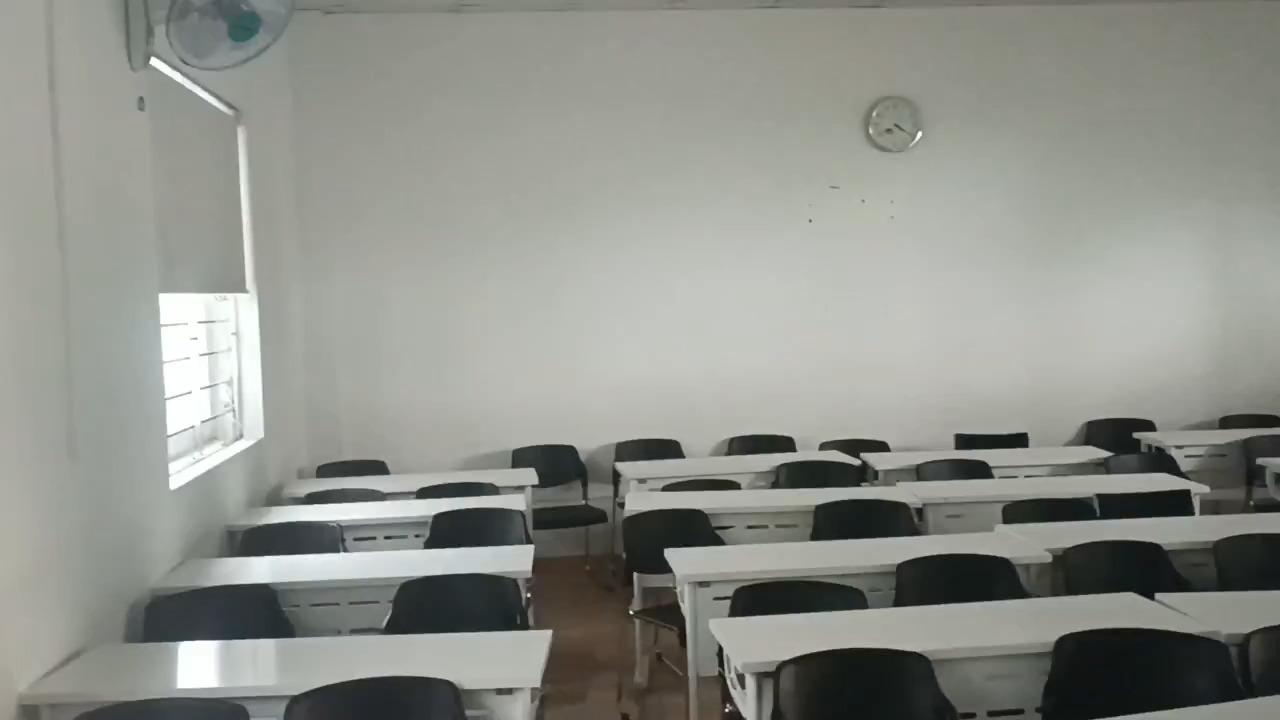chair: (1043, 629, 1240, 719), (777, 647, 958, 719), (516, 446, 602, 568), (382, 573, 525, 634), (891, 552, 1037, 609), (145, 585, 297, 639), (1066, 537, 1199, 596), (285, 679, 470, 717), (615, 510, 728, 567), (729, 580, 867, 617), (808, 495, 922, 537), (422, 506, 519, 547), (1218, 528, 1279, 591), (243, 521, 347, 555), (1097, 489, 1197, 521), (74, 701, 247, 719), (1084, 416, 1156, 453), (1001, 498, 1102, 520), (775, 459, 857, 486), (1106, 451, 1191, 477), (611, 435, 688, 463), (1248, 627, 1279, 694), (919, 457, 994, 480), (306, 458, 388, 475), (723, 435, 796, 453), (817, 437, 890, 455), (956, 430, 1028, 448), (304, 487, 388, 501), (417, 481, 501, 495), (1235, 437, 1279, 463), (666, 474, 741, 489), (1221, 413, 1279, 425)
clock: (863, 98, 925, 154)
fan: (122, 0, 294, 84)
table: (713, 587, 1202, 671), (35, 632, 555, 697), (667, 529, 1047, 582), (160, 547, 538, 590), (999, 513, 1279, 553), (907, 472, 1197, 508), (231, 495, 530, 525), (610, 450, 860, 478), (1156, 588, 1279, 640), (276, 468, 531, 492), (628, 490, 921, 510), (857, 448, 1116, 469), (1140, 425, 1279, 447)
